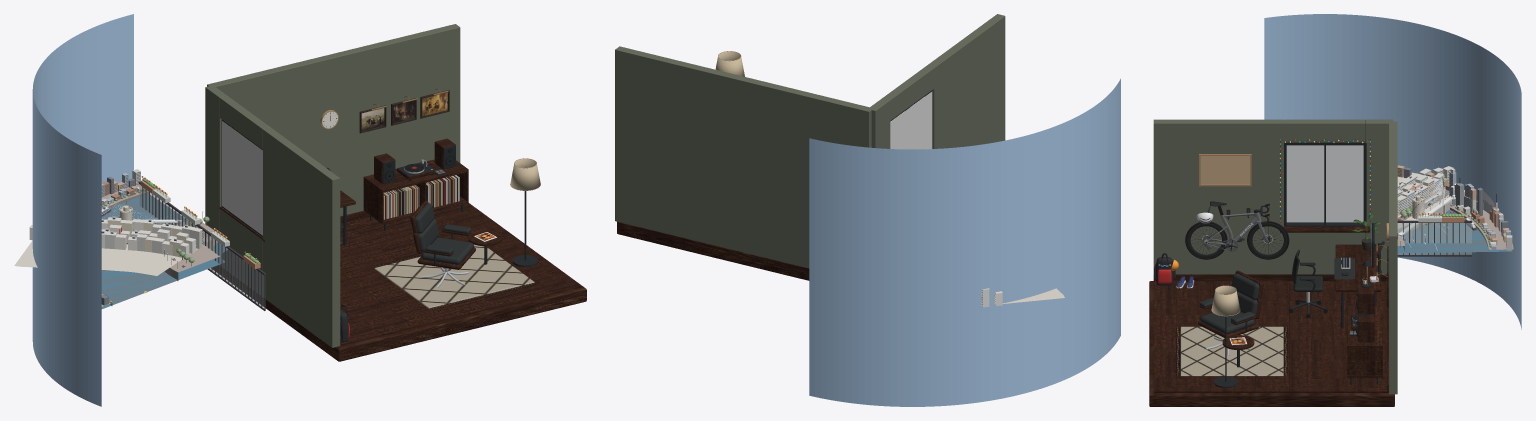
File: room.glb
3 renders of one model, left to right at view 1: azimuth 30°, elevation 25°; view 2: azimuth 150°, elevation 25°; view 3: azimuth 270°, elevation 25°, orthographic. The views are drawn at different scales.
Parts seen in each view (by area): view 1: View rotterdam sky, Back plaster wall, Left wall front, Cutaway architectural plinth, Wool rug, View thessaloniki seafront, View rotterdam river, Window view mask, View thessaloniki city, View rotterdam balcony, Left wall rear, View balcony (+10 smaller); view 2: View rotterdam sky, Back plaster wall, Left wall front, Cutaway architectural plinth, Window view mask, Window lintel, Left wall rear, Linen shade; view 3: View rotterdam sky, Left wall front, Window view mask, Window glazing, Cutaway architectural plinth, Wool rug, Left wall rear, View rotterdam skyline, Back plaster wall, Window sill wall, View thessaloniki seafront, View rotterdam river (+41 smaller).
Part boxes in pixels (<box>): View rotterdam sky: <box>32,14,133,406</box>; Back plaster wall: <box>207,24,460,216</box>; Left wall front: <box>263,127,340,347</box>; Cutaway architectural plinth: <box>211,203,586,361</box>; Wool rug: <box>374,244,534,308</box>; View thessaloniki seafront: <box>14,195,228,308</box>; View rotterdam river: <box>101,185,219,306</box>; Window view mask: <box>222,121,262,235</box>; View thessaloniki city: <box>29,201,202,257</box>; View rotterdam balcony: <box>138,182,265,308</box>; Left wall rear: <box>205,86,227,265</box>; View balcony: <box>139,176,265,310</box>; View rotterdam sky: <box>809,78,1120,406</box>; Back plaster wall: <box>615,46,872,268</box>; Left wall front: <box>927,14,1005,148</box>; Cutaway architectural plinth: <box>617,221,809,280</box>; Window view mask: <box>890,91,932,149</box>; Window lintel: <box>882,66,934,120</box>; Left wall rear: <box>870,98,890,148</box>; Linen shade: <box>715,51,744,76</box>; View rotterdam sky: <box>1264,14,1521,329</box>; Left wall front: <box>1153,119,1284,274</box>; Window view mask: <box>1286,145,1363,222</box>; Window glazing: <box>1287,145,1363,222</box>; Cutaway architectural plinth: <box>1149,281,1394,406</box>; Wool rug: <box>1180,326,1283,376</box>; Left wall rear: <box>1365,119,1393,274</box>; View rotterdam skyline: <box>1397,165,1512,250</box>; Back plaster wall: <box>1389,121,1397,394</box>; Window sill wall: <box>1284,232,1365,274</box>; View thessaloniki seafront: <box>1397,172,1512,253</box>; View rotterdam river: <box>1397,205,1513,252</box>.
Size of what is drawn, in the model's own units: 7.69 by 4.2 by 5.97.
Materials: 143 (10 with a texture image).
